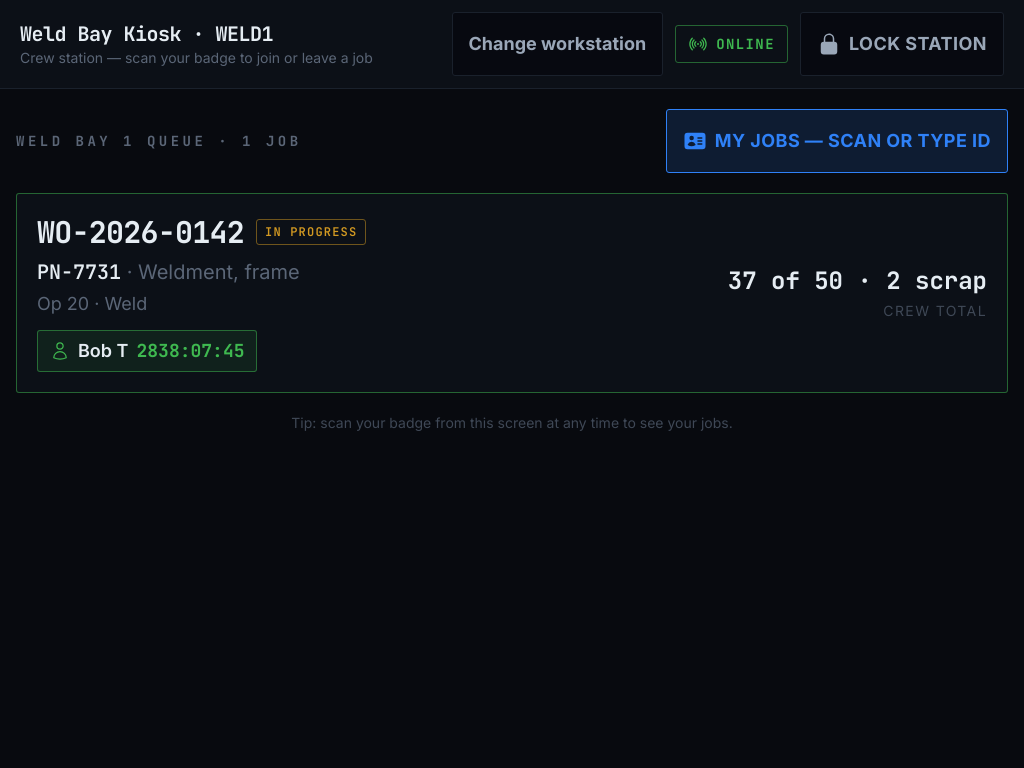
Test: CrewStationKiosk — REPORT PRODUCTION is badge-first › lands on the BADGE screen, not the quantity screen
The image size is (1024, 768).
Step 1. Click the button "WO-2026-0142" → (512, 381), box [16,193,1008,393]
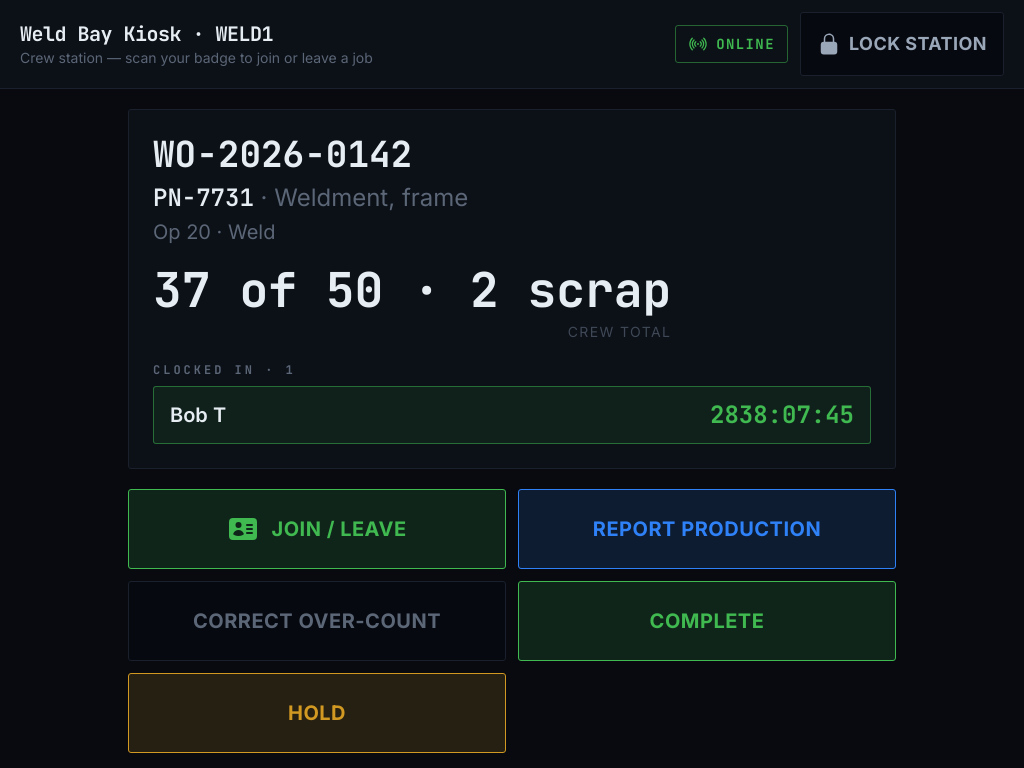
Step 2. Click the button "Report production" → (707, 529), box [518,489,896,569]
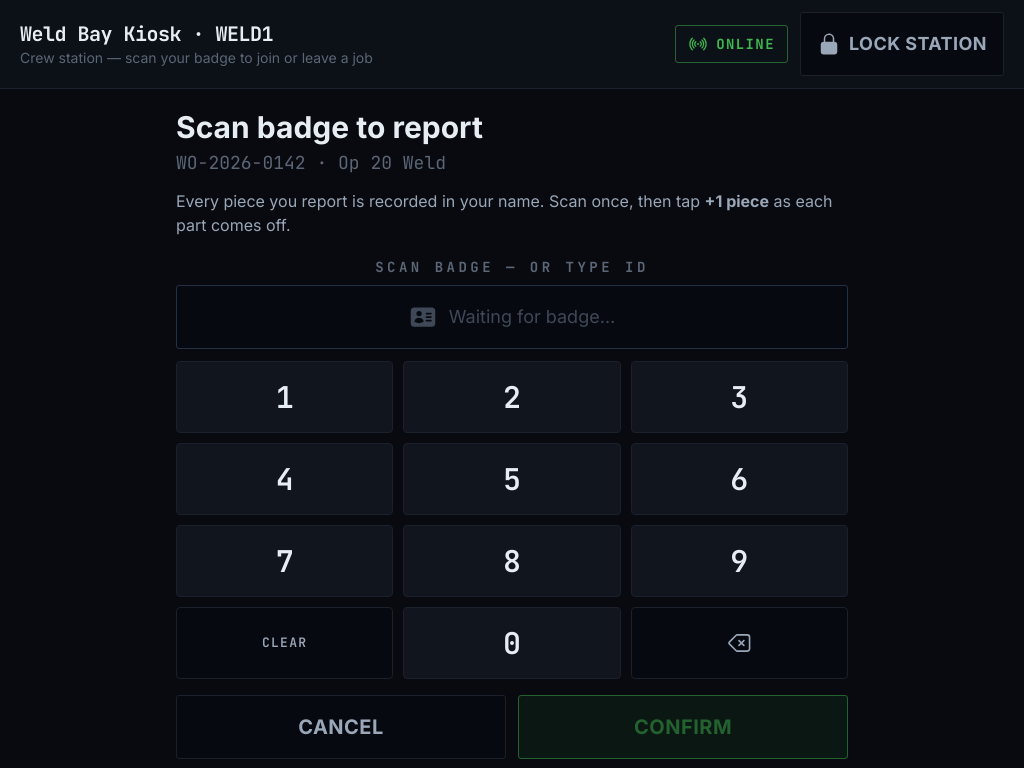
Now the element named "scan badge to report production" is shown, box [176,109,848,759]
Now the text "Every piece you report is recorded in your name" is shown, box [176,191,705,211]
